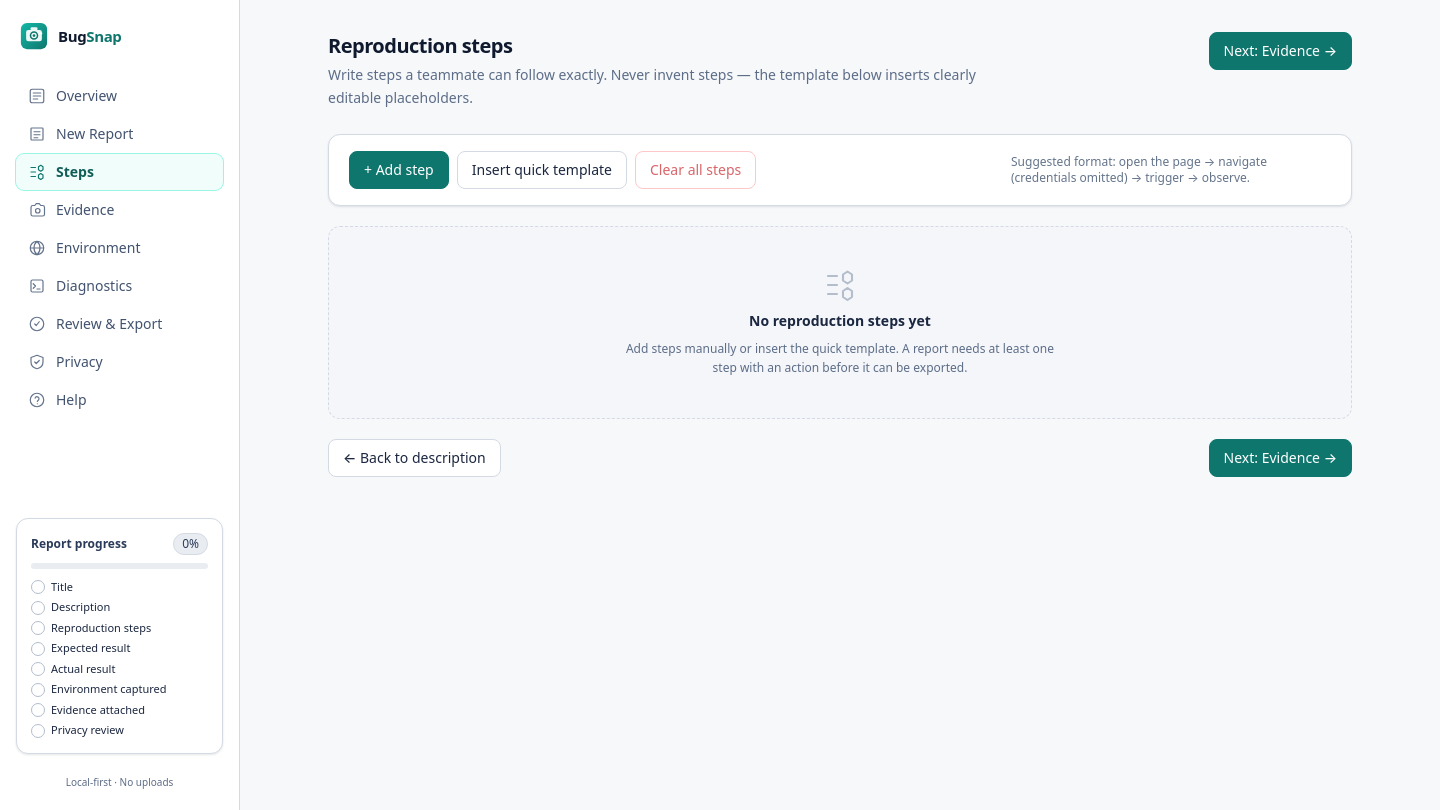
Test: report builder state retention › clears all steps after confirmation
Step 1. Click the link "Steps" → (120, 172), box left=16, top=154, right=223, bottom=190
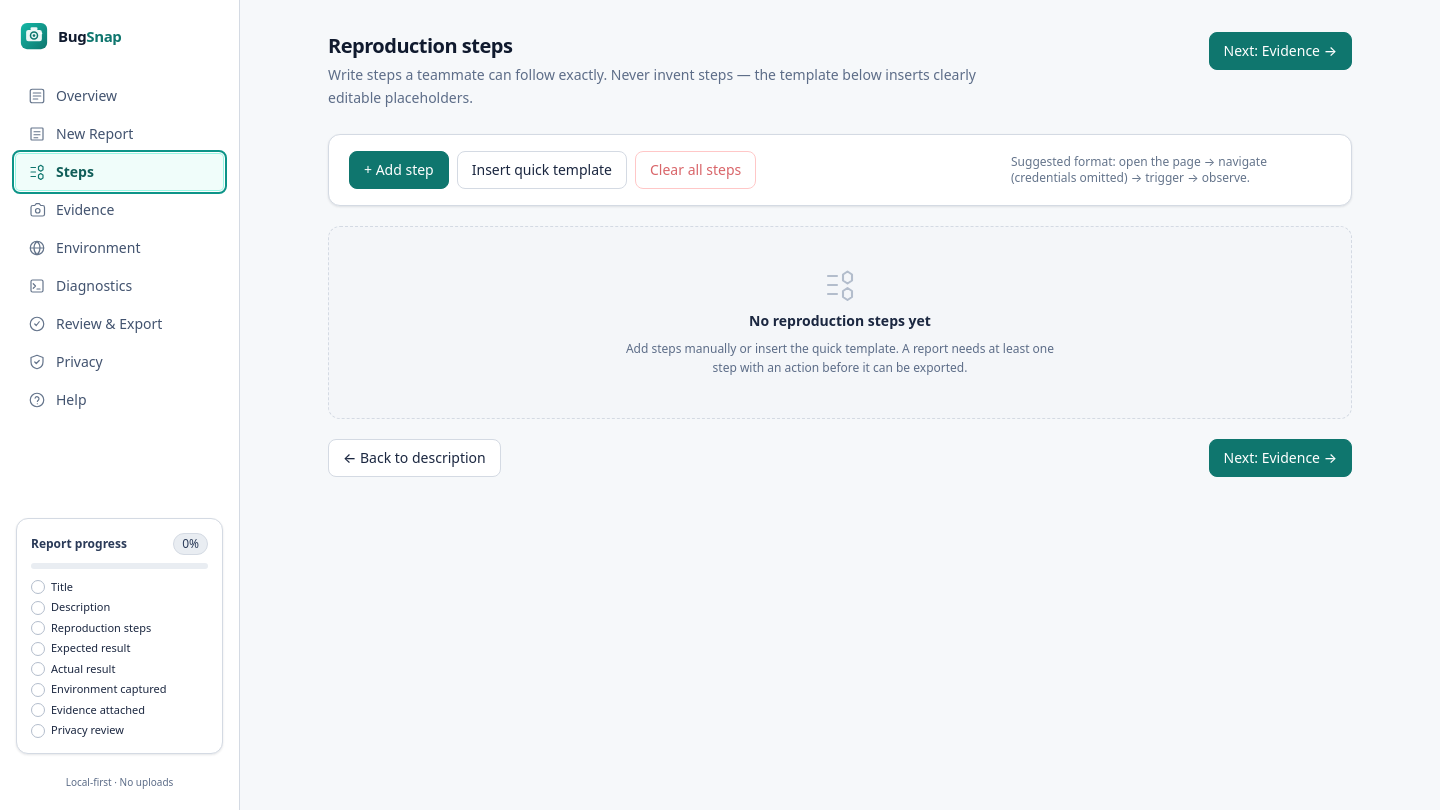
Step 2. Click the button "+ Add step" → (399, 170), box left=349, top=150, right=449, bottom=188
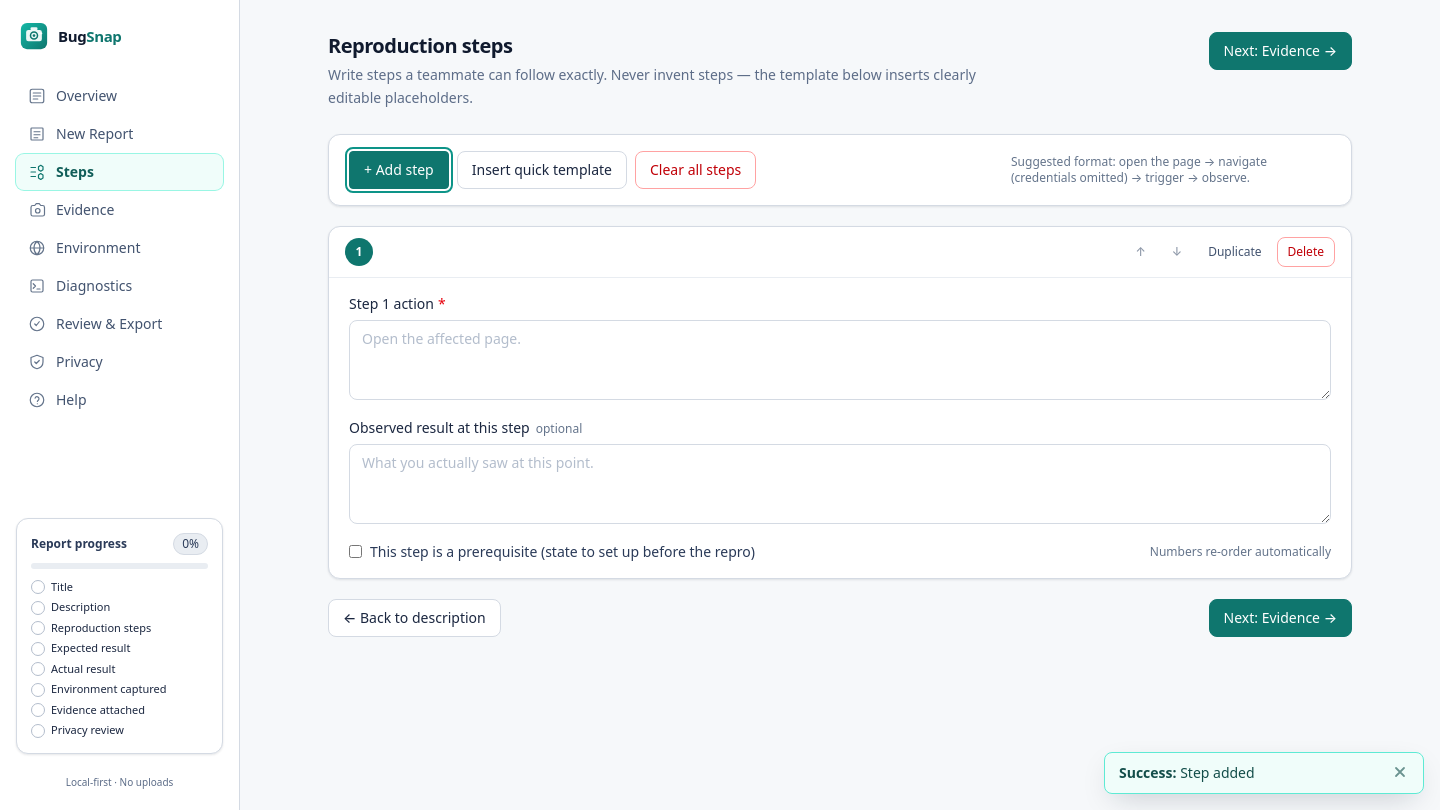
Step 3. Click the button "Clear all steps" → (696, 170), box left=635, top=150, right=756, bottom=188
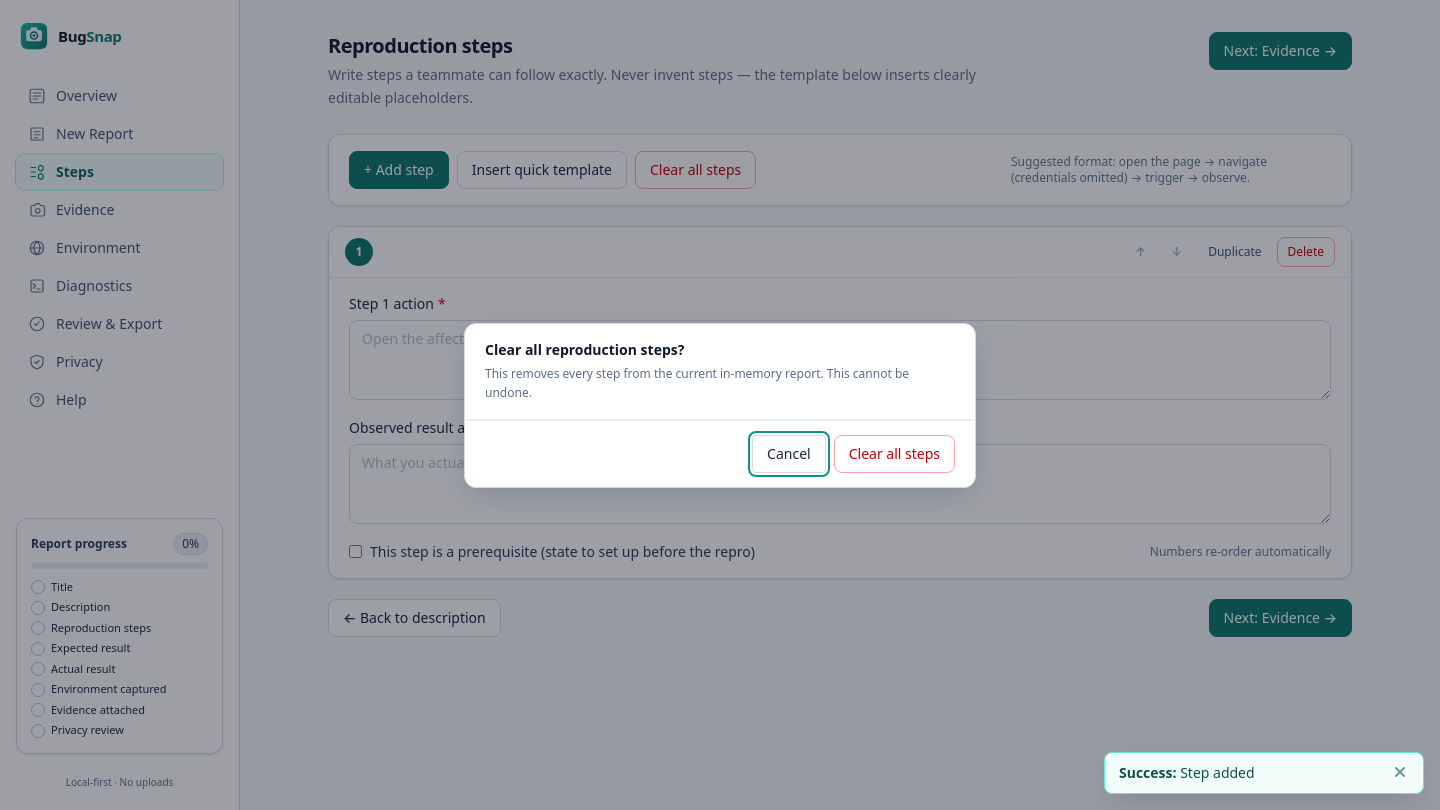
Result: the dialog is shown at left=464, top=322, right=976, bottom=488
Step 4. Click the button "Clear all steps" → (894, 454), box left=834, top=434, right=955, bottom=472
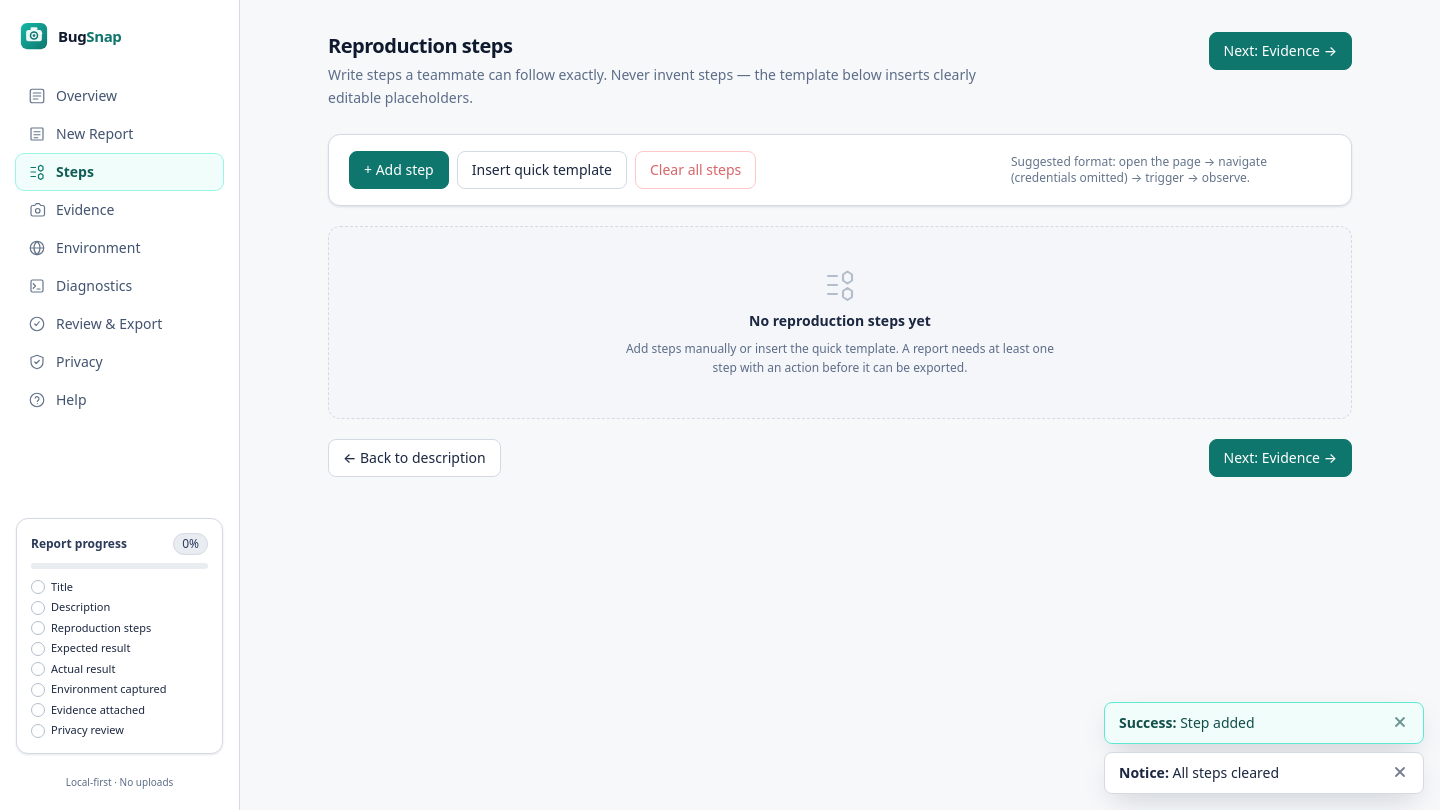
Result: the text "No reproduction steps yet" is shown at left=749, top=310, right=931, bottom=330
